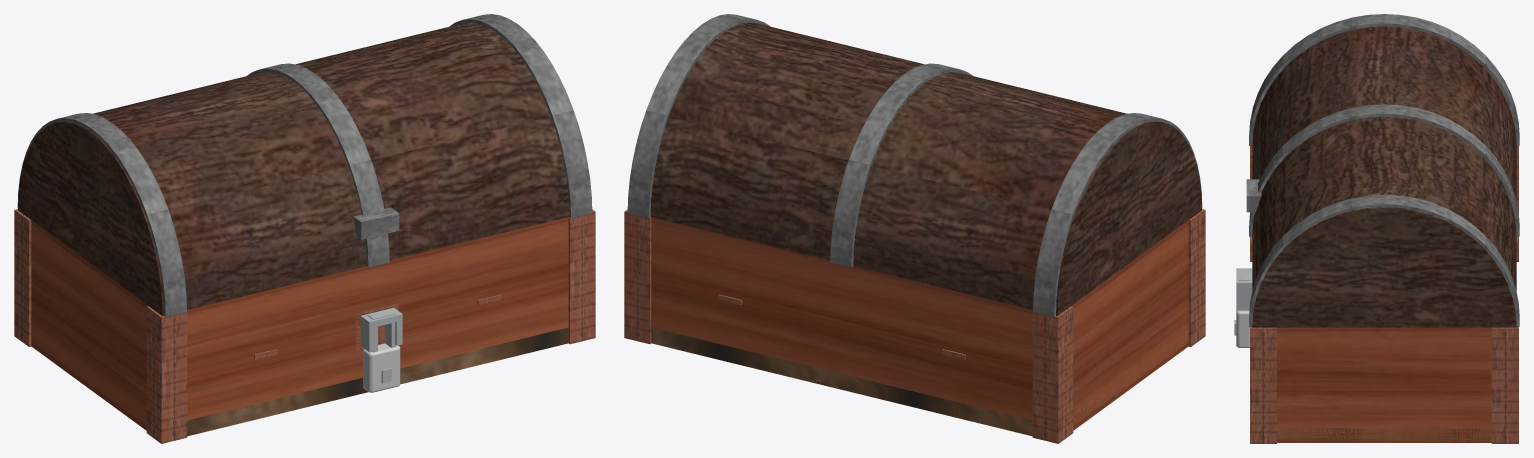
The model's file is Bag_Suitcase_Treasure_chest__0013.glb.
3 views of the same model, side by side, from view 1: azimuth 30°, elevation 25°; view 2: azimuth 150°, elevation 25°; view 3: azimuth 270°, elevation 25° (orthographic). The views are drawn at different scales.
Visible parts, largest first — view 1: chest_lid::lid_dome, chest_body::wall_front, chest_body::wall_left, chest_body::floor_panel, chest_lid::lid_strap_0, chest_lid::lid_strap_2, chest_body::corner_post_0, chest_lid::lid_strap_1, chest_body::corner_post_2, chest_body::corner_post_1, padlock_body::padlock_case, chest_lid::hasp_mount (+1 smaller); view 2: chest_lid::lid_dome, chest_body::wall_back, chest_body::wall_left, chest_body::floor_panel, chest_lid::lid_strap_0, chest_lid::lid_strap_1, chest_lid::lid_strap_2, chest_body::corner_post_1, chest_body::corner_post_3, chest_body::corner_post_0; view 3: chest_lid::lid_dome, chest_body::wall_right, chest_lid::lid_strap_2, chest_lid::lid_strap_0, chest_lid::lid_strap_1, chest_body::corner_post_3, chest_body::corner_post_2, chest_body::floor_panel, chest_body::staple_loop, padlock_body::padlock_case, chest_lid::hasp_mount.
Part boxes in pixels (x1,y1,x2,y2): chest_lid::lid_dome: (18,22,569,315); chest_body::wall_front: (187,217,568,420); chest_body::wall_left: (31,220,148,430); chest_body::floor_panel: (187,327,568,436); chest_lid::lid_strap_0: (17,113,186,316); chest_lid::lid_strap_2: (449,14,592,217); chest_body::corner_post_0: (146,306,187,443); chest_lid::lid_strap_1: (247,63,389,267); chest_body::corner_post_2: (568,209,595,344); chest_body::corner_post_1: (14,209,31,346); padlock_body::padlock_case: (363,343,400,392); chest_lid::hasp_mount: (353,207,399,239); chest_lid::lid_dome: (650,22,1201,315); chest_body::wall_back: (651,217,1032,435); chest_body::wall_left: (1071,220,1188,430); chest_body::floor_panel: (651,327,1187,436); chest_lid::lid_strap_0: (1033,113,1202,316); chest_lid::lid_strap_1: (830,63,972,267); chest_lid::lid_strap_2: (627,14,770,217); chest_body::corner_post_1: (1032,306,1073,443); chest_body::corner_post_3: (624,209,651,344); chest_body::corner_post_0: (1188,209,1205,346); chest_lid::lid_dome: (1252,26,1516,327); chest_body::wall_right: (1277,327,1491,442); chest_lid::lid_strap_2: (1249,194,1519,326); chest_lid::lid_strap_0: (1249,14,1519,145); chest_lid::lid_strap_1: (1249,104,1519,236); chest_body::corner_post_3: (1491,327,1518,443); chest_body::corner_post_2: (1250,327,1276,443); chest_body::floor_panel: (1277,428,1491,442); chest_body::staple_loop: (1236,268,1252,310); padlock_body::padlock_case: (1236,310,1249,347); chest_lid::hasp_mount: (1246,179,1261,212).
Size of the model in its own units: 0.572 by 0.328 by 0.3565.
7 materials, 6 textured.
